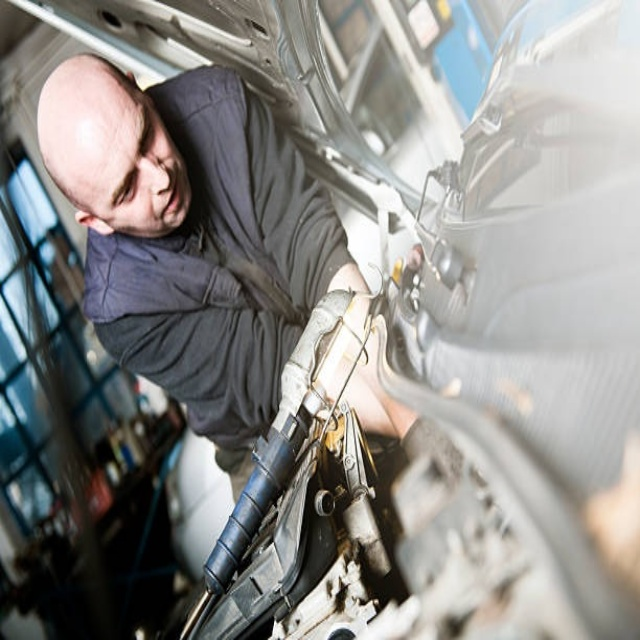Sin_gafas: (101, 94, 154, 215)
Sin_mascara: (159, 167, 186, 226)
